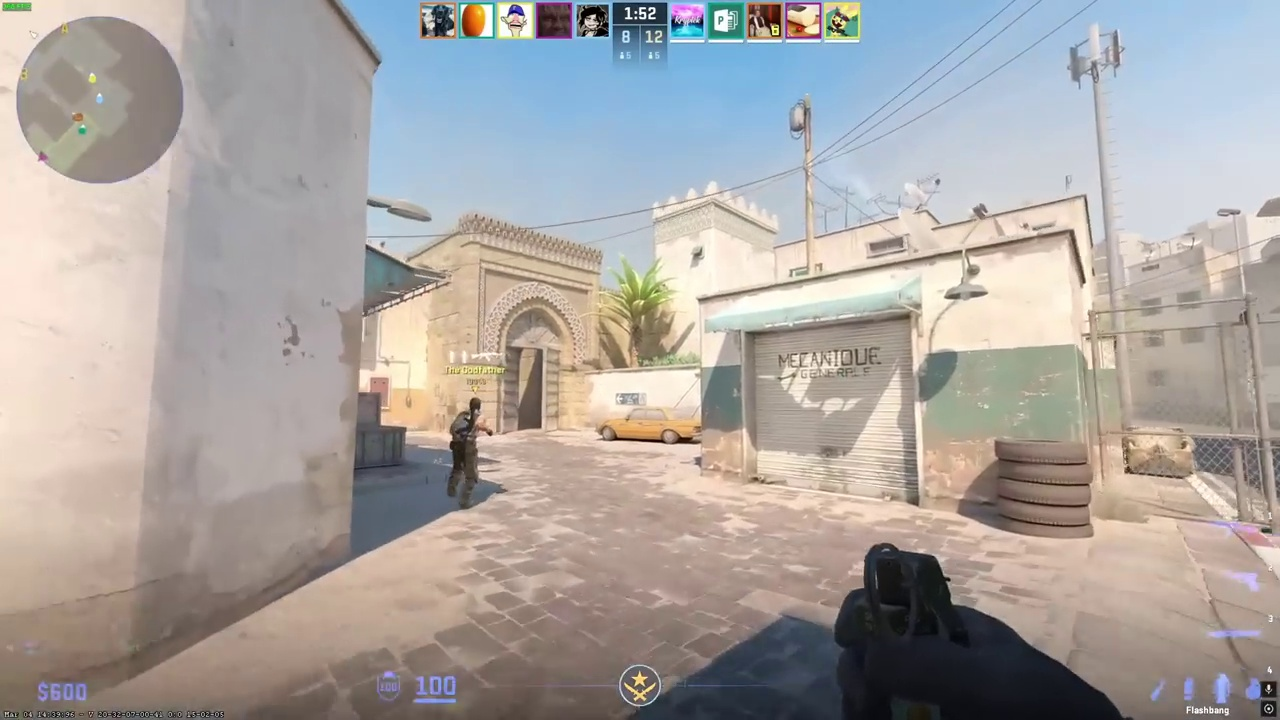Terrorist: (446, 397, 487, 509)
